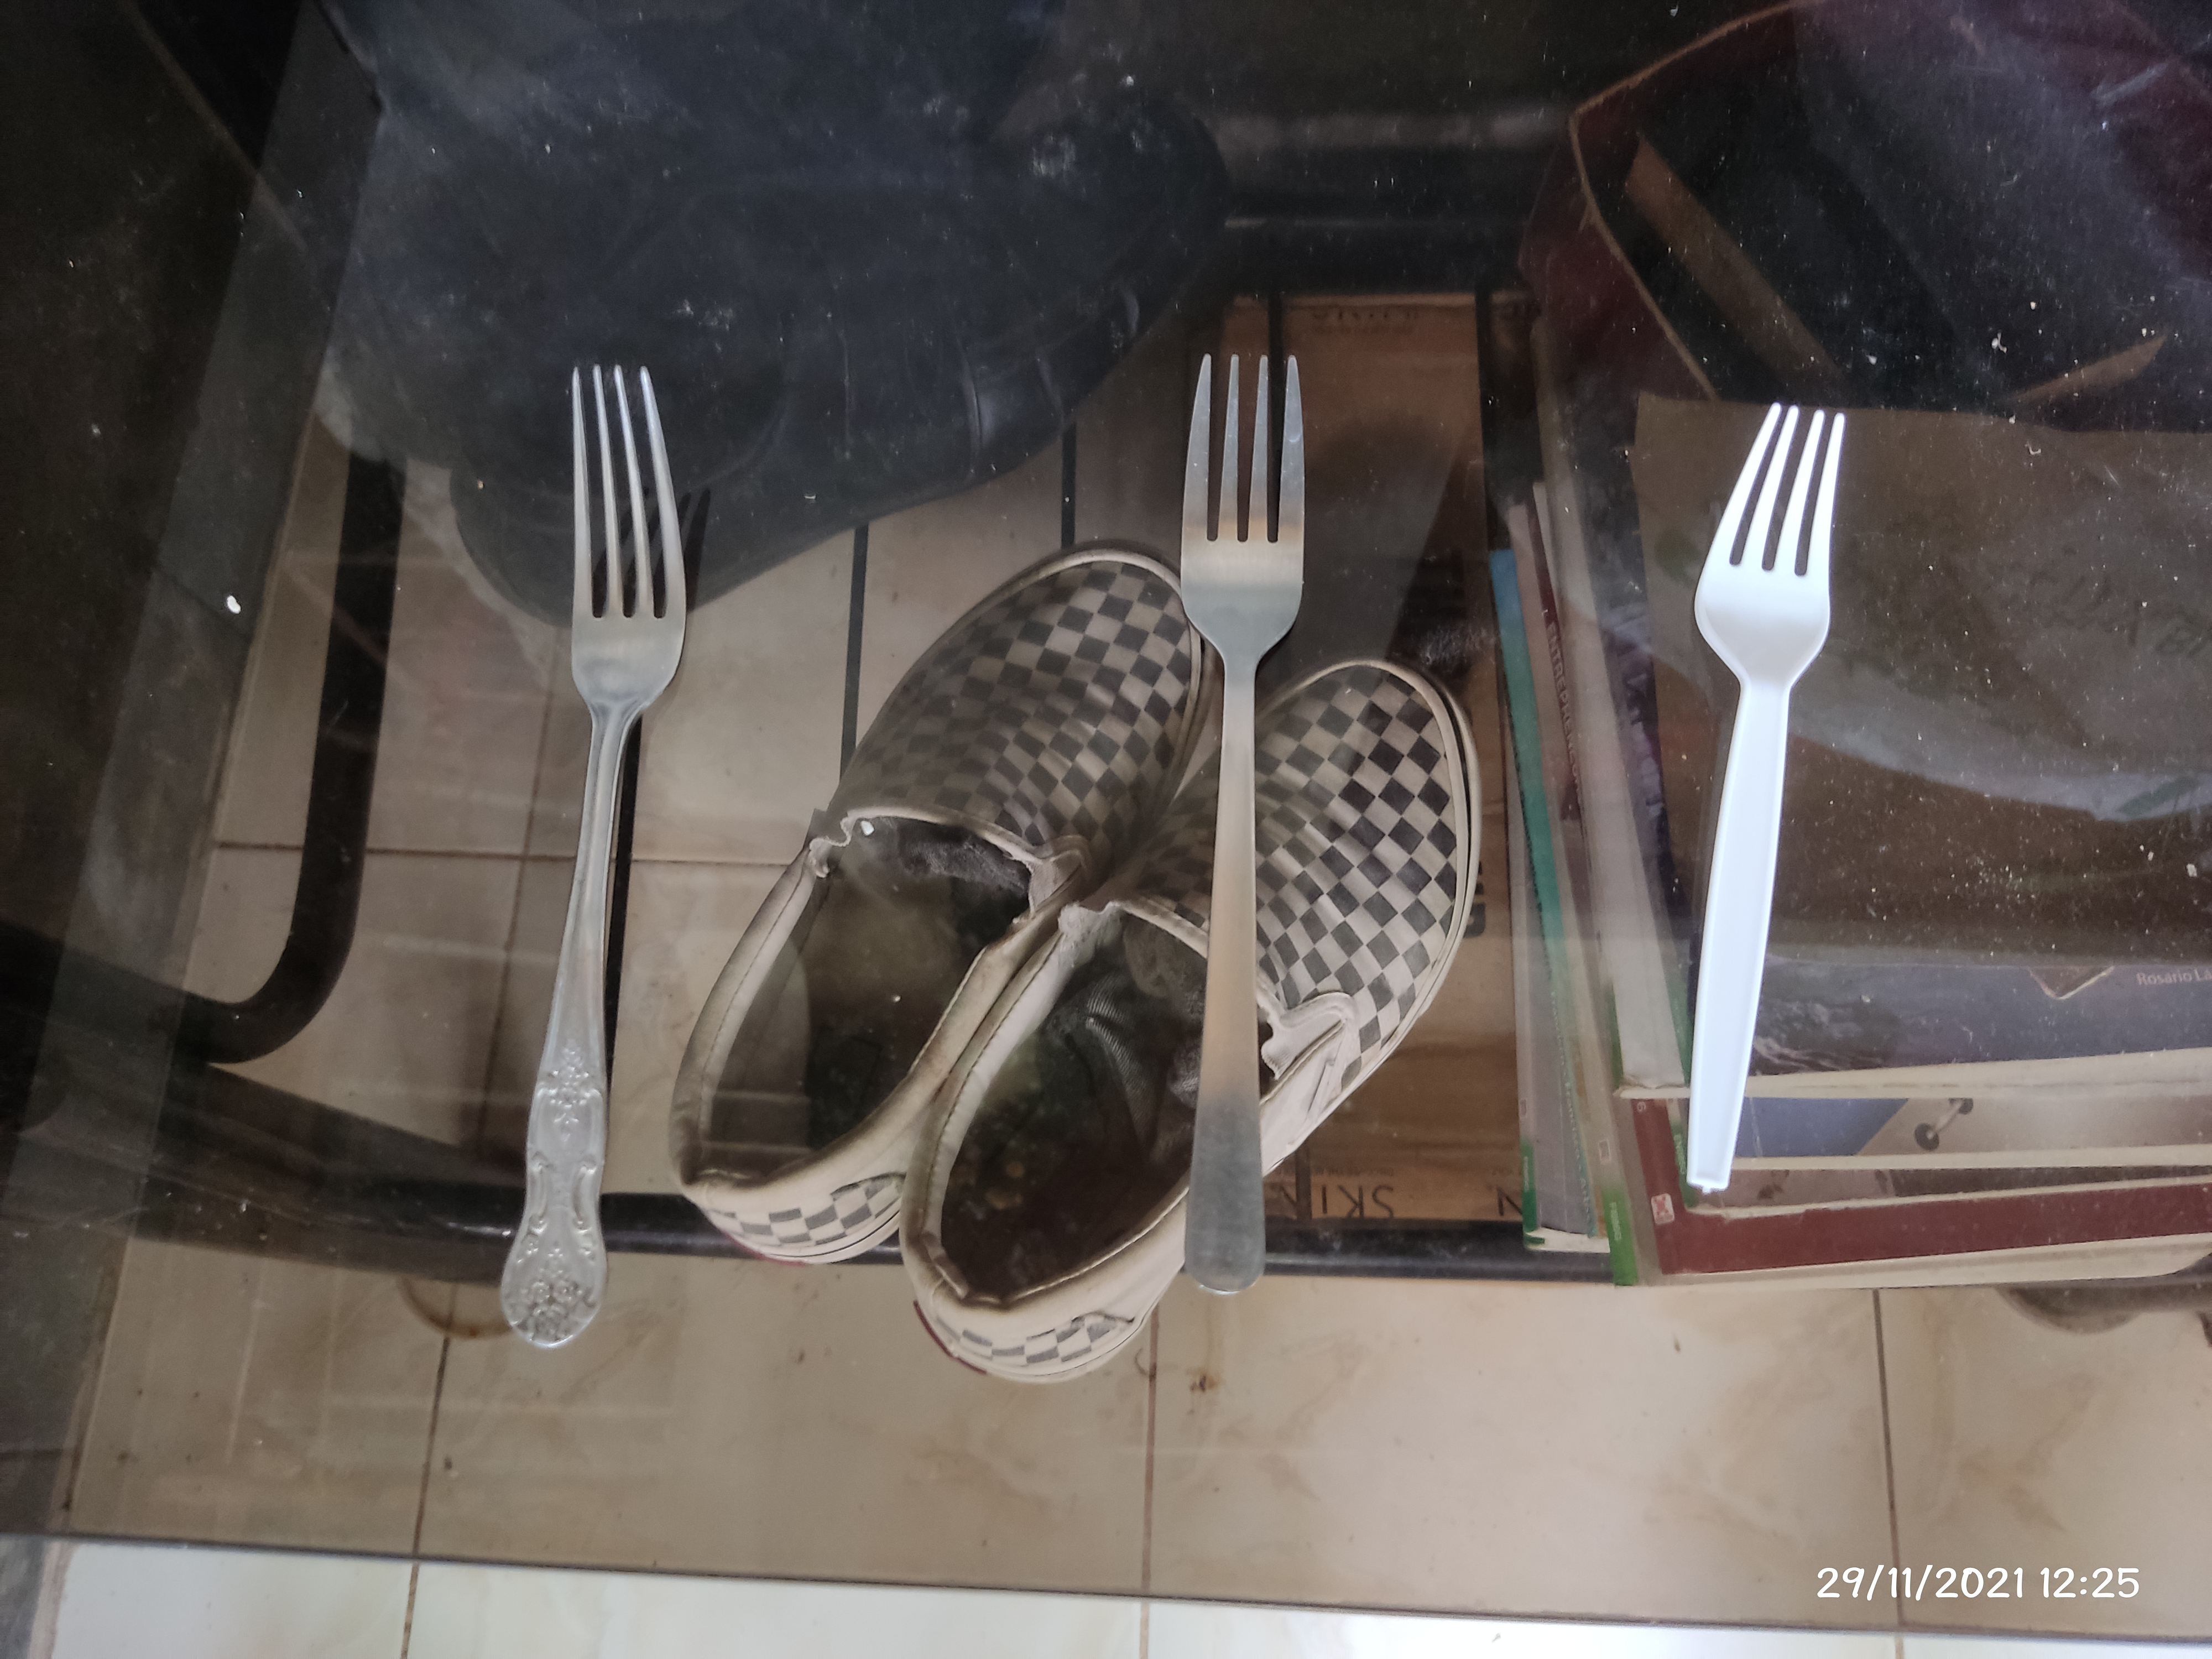fork: (498, 364, 690, 1351), (1695, 406, 1848, 1197), (1184, 345, 1303, 1291)
